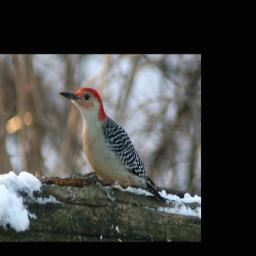Woodpecker: (58, 87, 165, 202)
